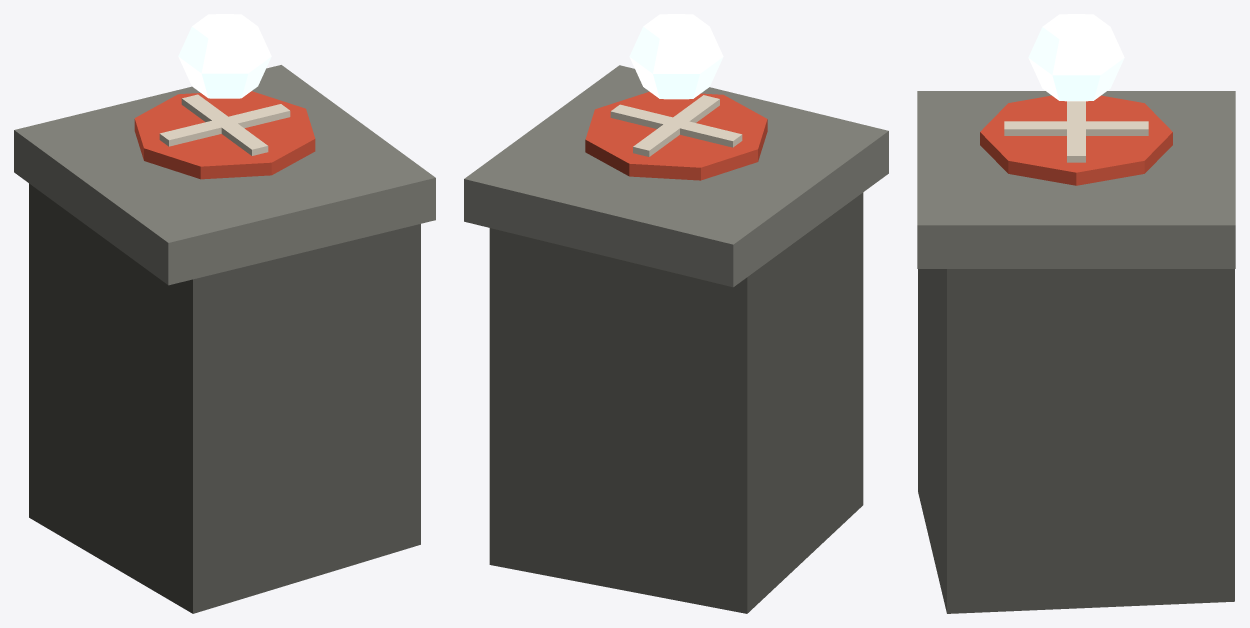
The model's file is prop_corner_stone.glb.
3 renders of one model, left to right at view 1: azimuth 30°, elevation 25°; view 2: azimuth 150°, elevation 25°; view 3: azimuth 270°, elevation 25°, orthographic. The views are drawn at different scales.
Parts seen in each view (by area): view 1: prop_corner_stone; view 2: prop_corner_stone; view 3: prop_corner_stone.
Boxes of the visible parts, x1=… form: prop_corner_stone: x1=14, y1=14, x2=435, y2=613; prop_corner_stone: x1=464, y1=14, x2=888, y2=613; prop_corner_stone: x1=917, y1=14, x2=1235, y2=613.
Size of the model in its own units: 0.66 by 1.22 by 0.66.
